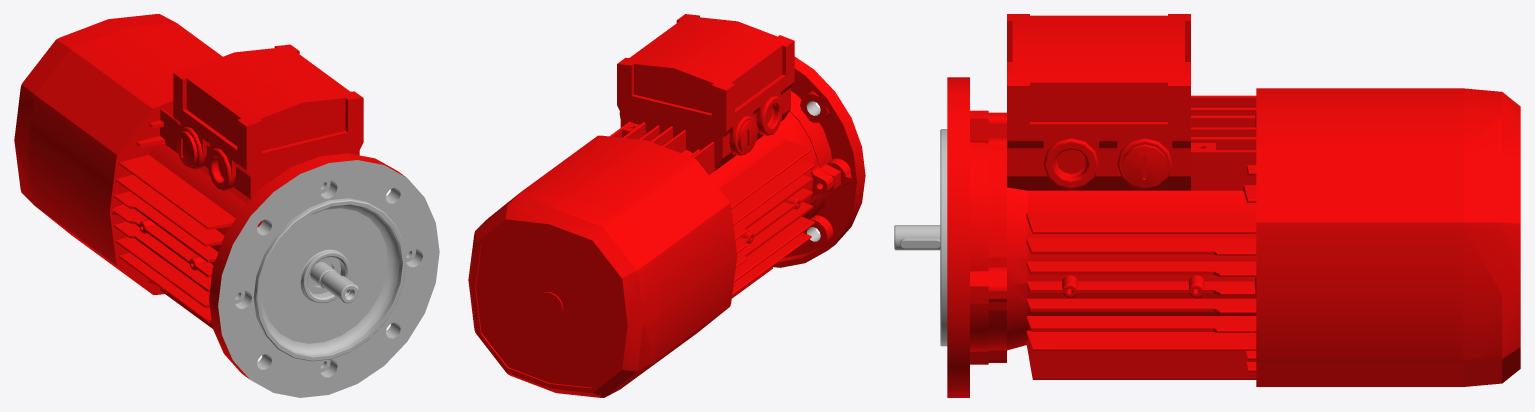
Rendered from moteur.glb.
3 views of the same model, side by side, from view 1: azimuth 30°, elevation 25°; view 2: azimuth 150°, elevation 25°; view 3: azimuth 270°, elevation 25° (orthographic). The views are drawn at different scales.
Visible parts, largest first — view 1: main; view 2: main; view 3: main.
Part boxes in pixels (box(x1,y1,x2,y2)): main: box(14, 14, 439, 397); main: box(468, 14, 865, 397); main: box(894, 14, 1520, 397).
Size of the model in its own units: 0.14 by 0.165 by 0.2725.
